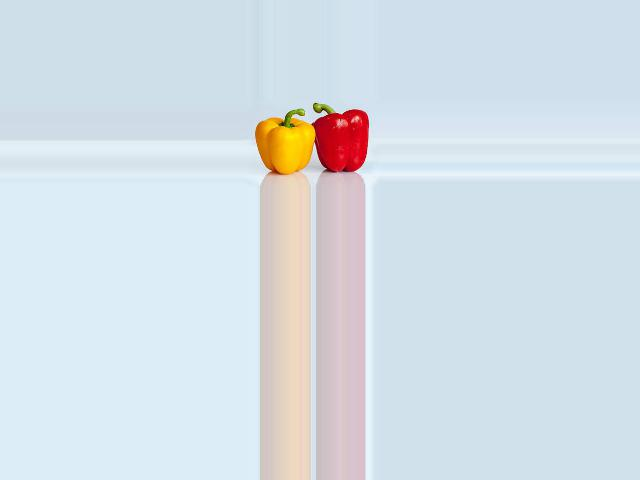bell_pepper: (310, 105, 374, 179)
